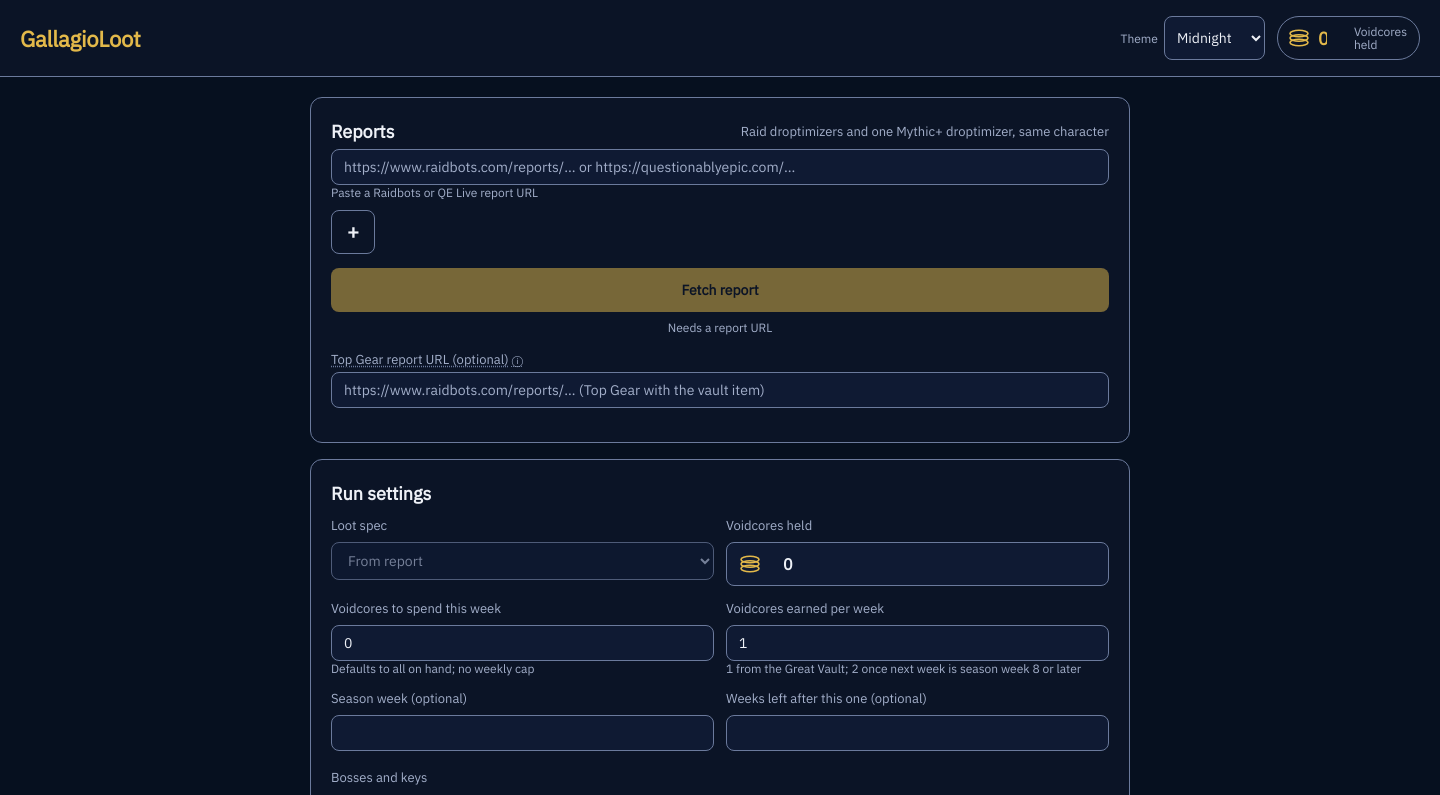
Test: Reports panel: one compact block per report › raid block: heading, the most common drop with the 344 exception by boss, then items / bosses / baseline / sim date
Step 1. Replace the text in the field with id "report-url" with "https://www.raidbots.com/simbot/report/6PTZ7TjgU8PdxJhZ97bMUa" → [720, 167], box x1=331 y1=149 x2=1109 y2=185
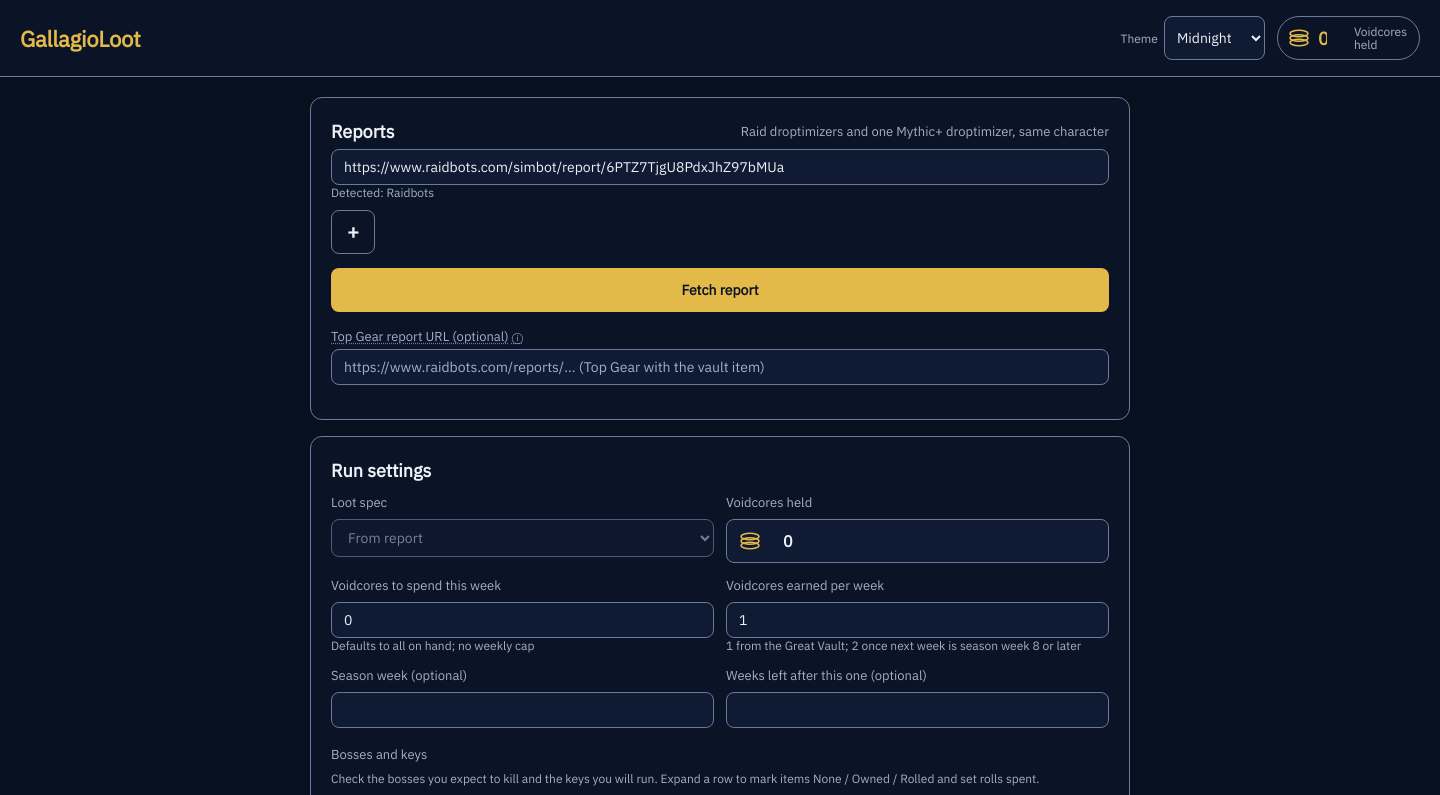
Step 2. Click the button "Fetch report" → [720, 290], box x1=331 y1=268 x2=1109 y2=312
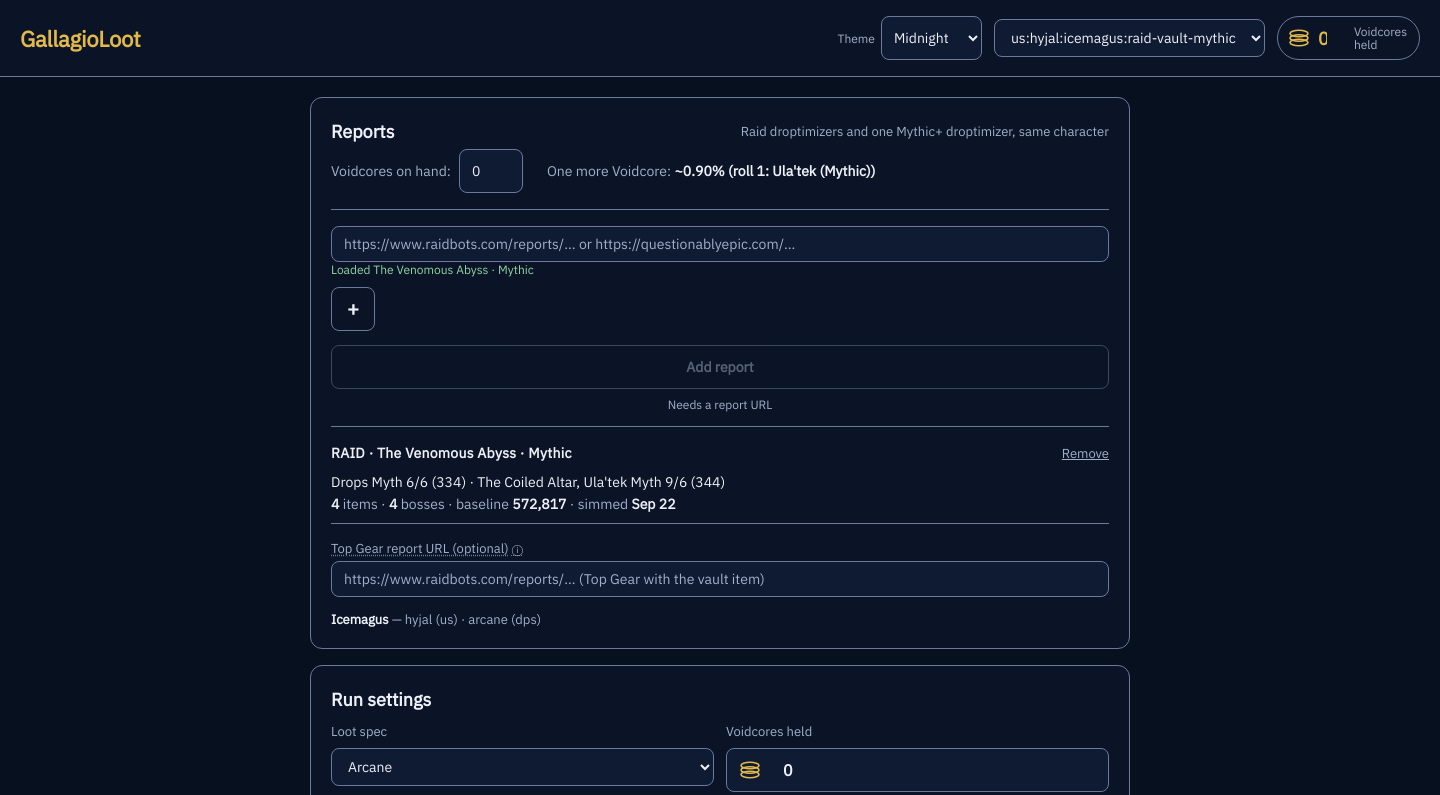
Check: the button with class "report-line__remove" reads "Remove", box x1=1062 y1=437 x2=1109 y2=469
